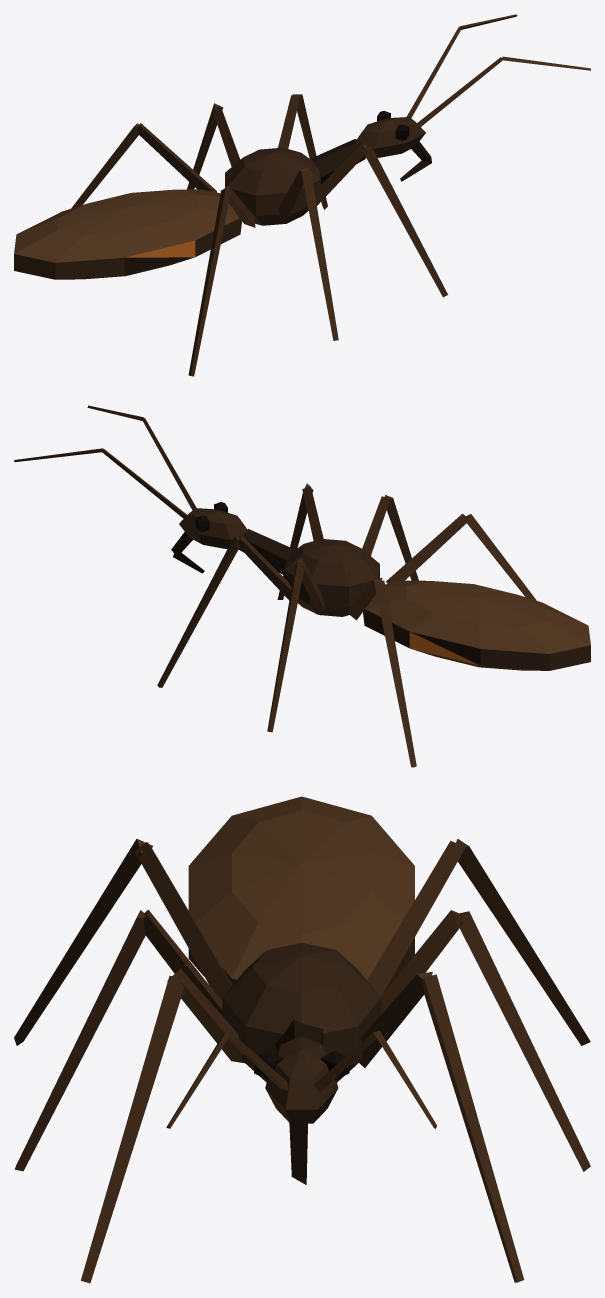
The model's file is creatures-assassin-bug.glb.
3 renders of one model, top to bottom at view 1: azimuth 30°, elevation 25°; view 2: azimuth 150°, elevation 25°; view 3: azimuth 270°, elevation 25°, orthographic. The views are drawn at different scales.
Size of the model in its own units: 13.47 by 4.49 by 6.91.
